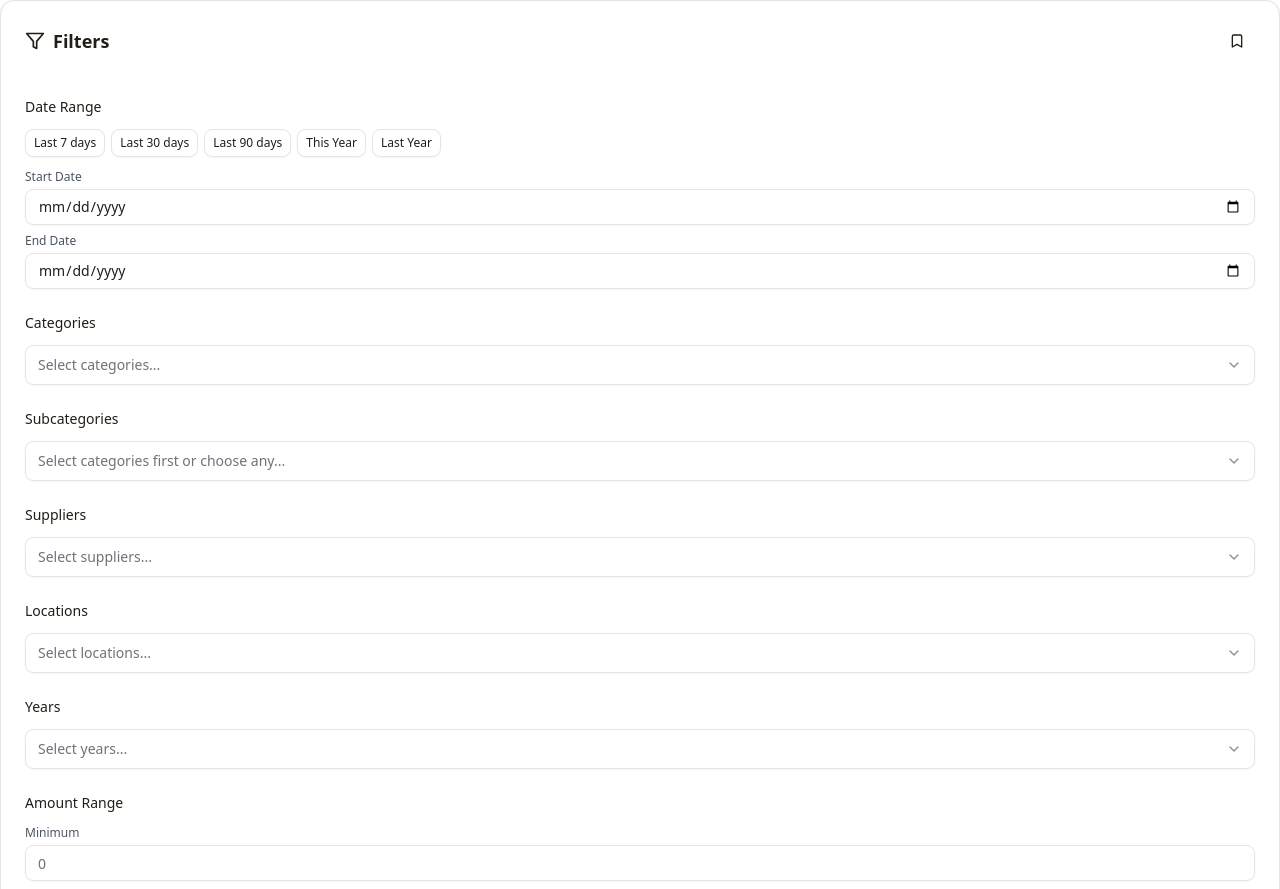
Test case: FilterPane › Filter Presets › should show no presets message when empty
This screenshot has width=1280, height=889.
Click the button named "Filter presets": (1237, 41) x1=1219 y1=25 x2=1255 y2=57
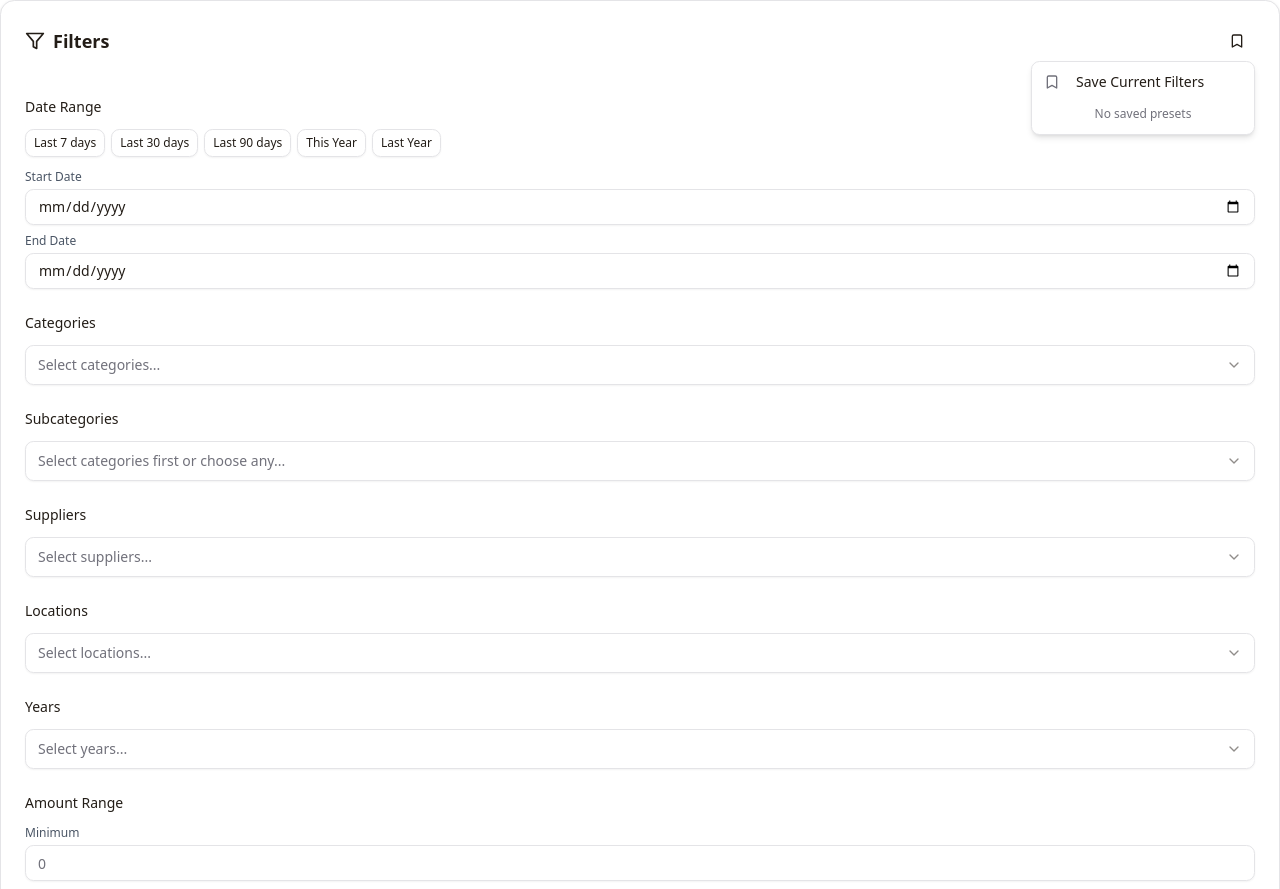
Expected: the text "No saved presets" is shown, x1=1095 y1=105 x2=1191 y2=122
